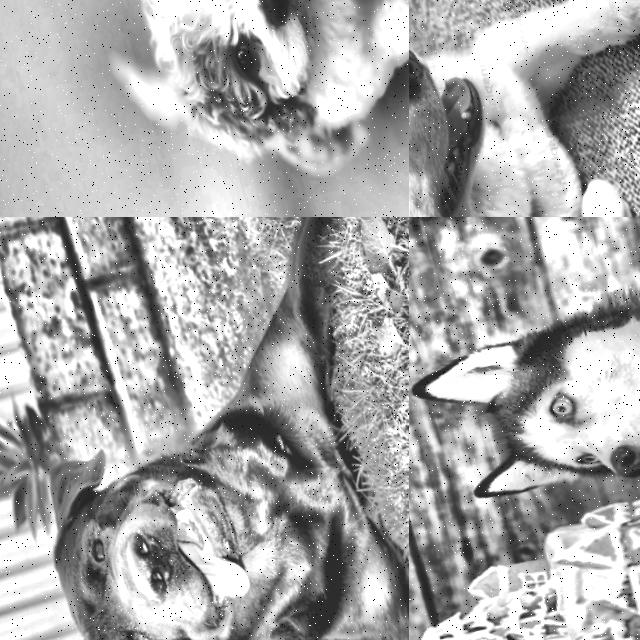husky: (409, 250, 640, 545), (409, 0, 599, 217)
poodle: (79, 0, 360, 188)
rottweiler: (0, 362, 349, 640)
